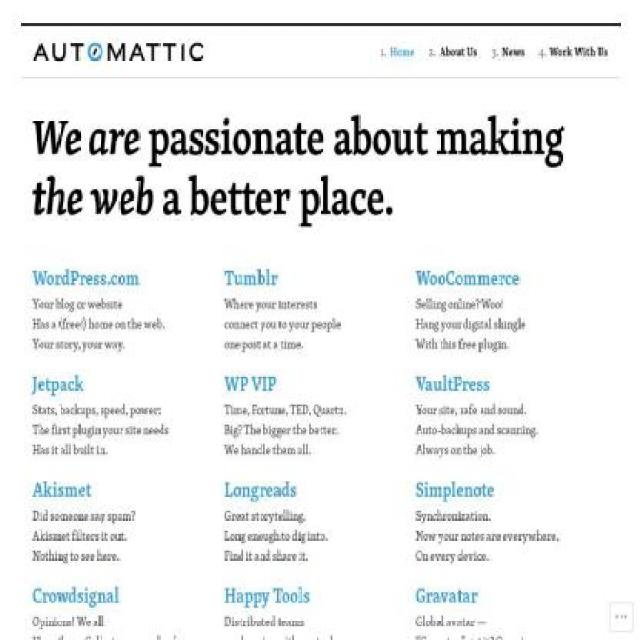button: (549, 25, 608, 78), (439, 25, 478, 78), (390, 25, 415, 78), (502, 25, 524, 78)
